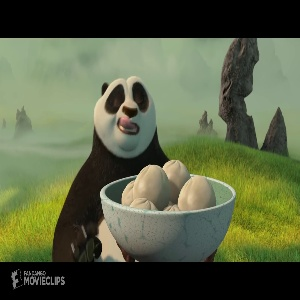po: (52, 74, 171, 260)
